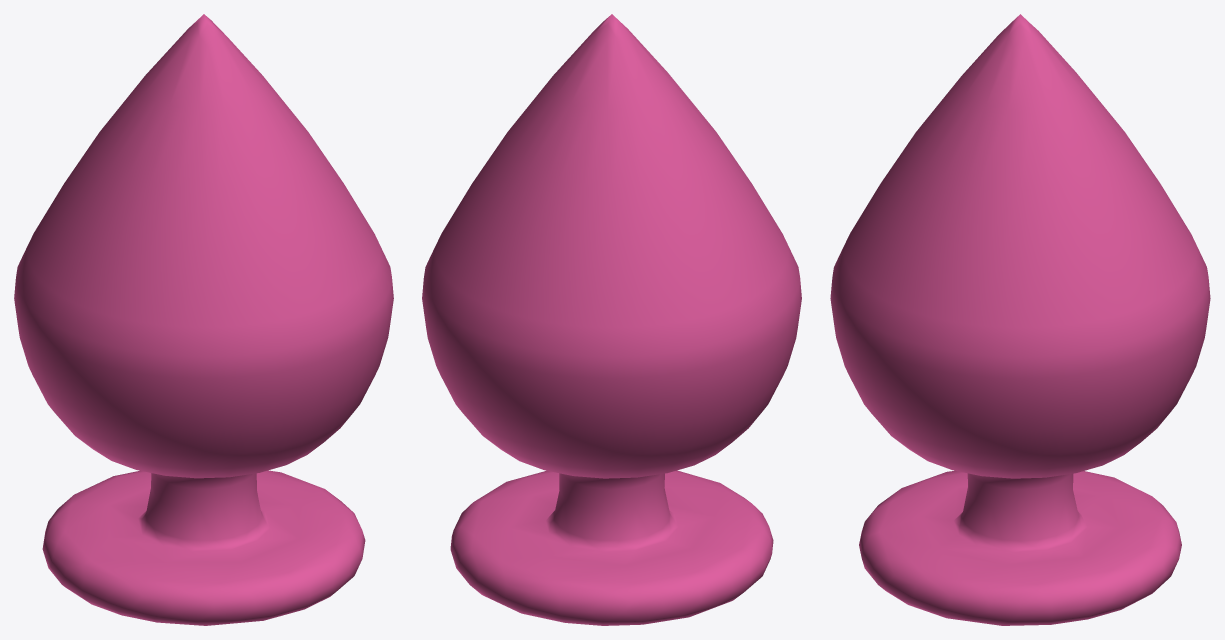
File: chess-pawn-lod1.glb
3 views of the same model, side by side, from view 1: azimuth 30°, elevation 25°; view 2: azimuth 150°, elevation 25°; view 3: azimuth 270°, elevation 25° (orthographic).
Parts seen in each view (by area): view 1: pawn; view 2: pawn; view 3: pawn.
Boxes of the visible parts, left/top/right/bottom form: pawn: left=14, top=14, right=393, bottom=625; pawn: left=422, top=14, right=801, bottom=625; pawn: left=830, top=14, right=1210, bottom=625.
Size of the model in its own units: 0.3437 by 0.55 by 0.3437.
